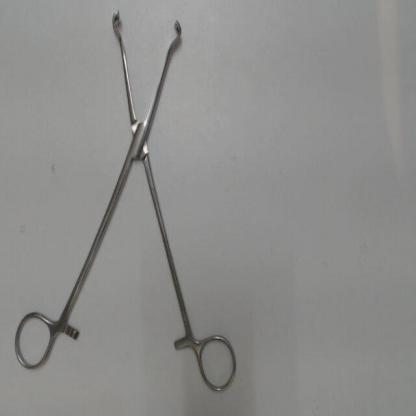8 Babcock Tissue Forceps: (9, 6, 241, 404)
